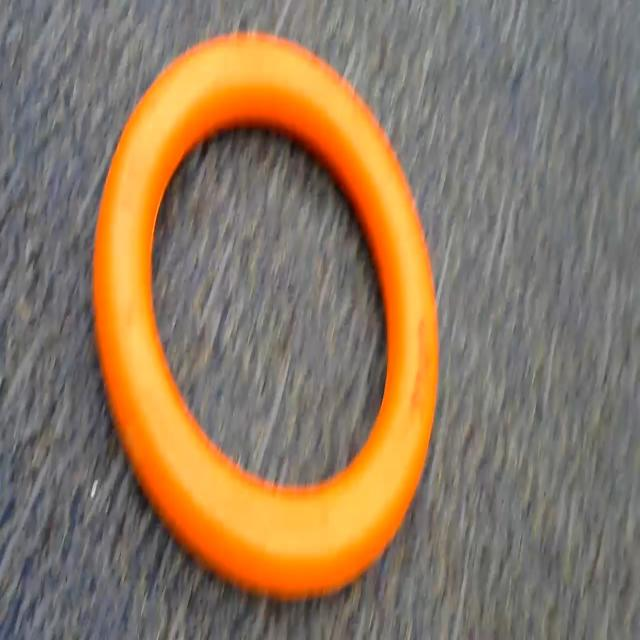note: (83, 29, 444, 625)
